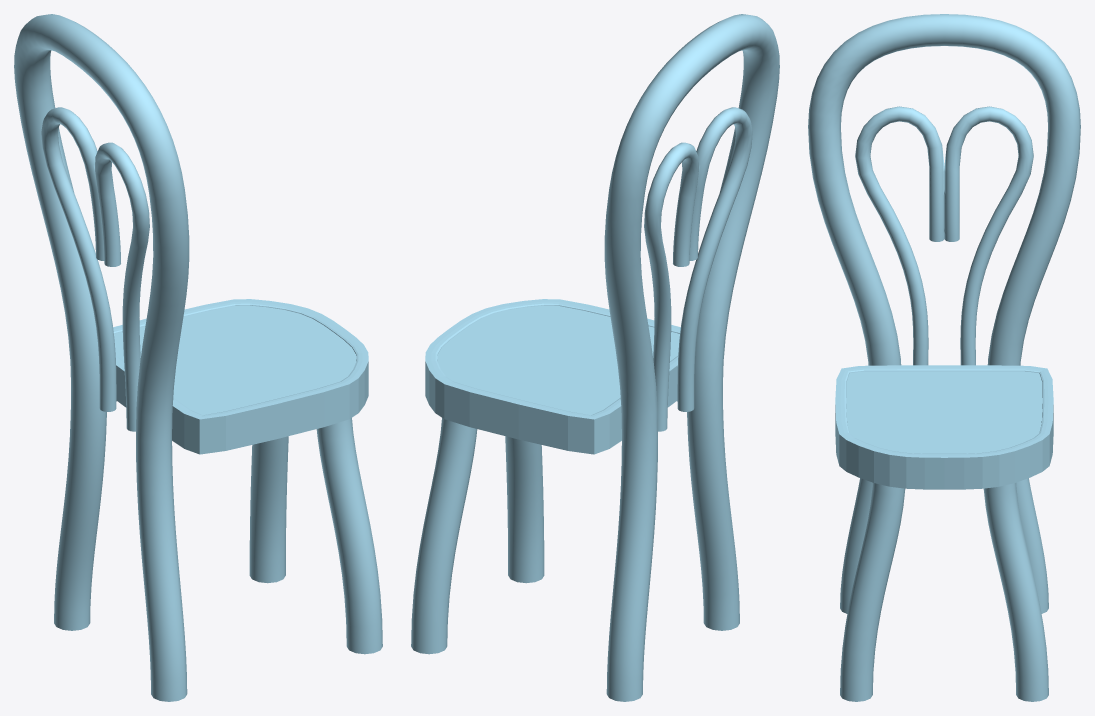
Rendered from chair.fbx.
3 renders of one model, left to right at view 1: azimuth 30°, elevation 25°; view 2: azimuth 150°, elevation 25°; view 3: azimuth 270°, elevation 25°, orthographic. The views are drawn at different scales.
Parts seen in each view (by area): view 1: BezierCurve.002, Cube, BezierCurve.004, BezierCurve.003; view 2: BezierCurve.002, Cube, BezierCurve.004, BezierCurve.003; view 3: BezierCurve.002, Cube, BezierCurve.003, BezierCurve.004.
Part boxes in pixels (x1,y1,x2,y2): BezierCurve.002: (14, 14, 189, 701); Cube: (113, 299, 368, 454); BezierCurve.004: (41, 107, 149, 431); BezierCurve.003: (249, 418, 382, 654); BezierCurve.002: (604, 14, 779, 701); Cube: (425, 299, 680, 454); BezierCurve.004: (644, 107, 752, 431); BezierCurve.003: (411, 418, 544, 654); BezierCurve.002: (808, 14, 1080, 613); Cube: (835, 365, 1053, 489); BezierCurve.003: (840, 483, 1048, 701); BezierCurve.004: (855, 106, 1033, 365).
Bounding box in the file's own units: 264 × 581 × 249.
